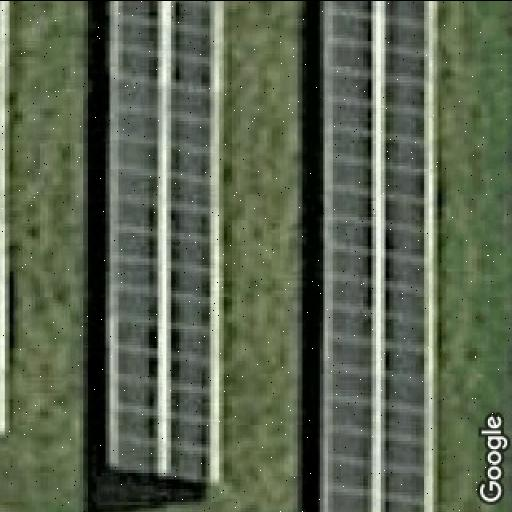solar-panel: (320, 0, 440, 512), (108, 0, 226, 488), (0, 0, 11, 439)
